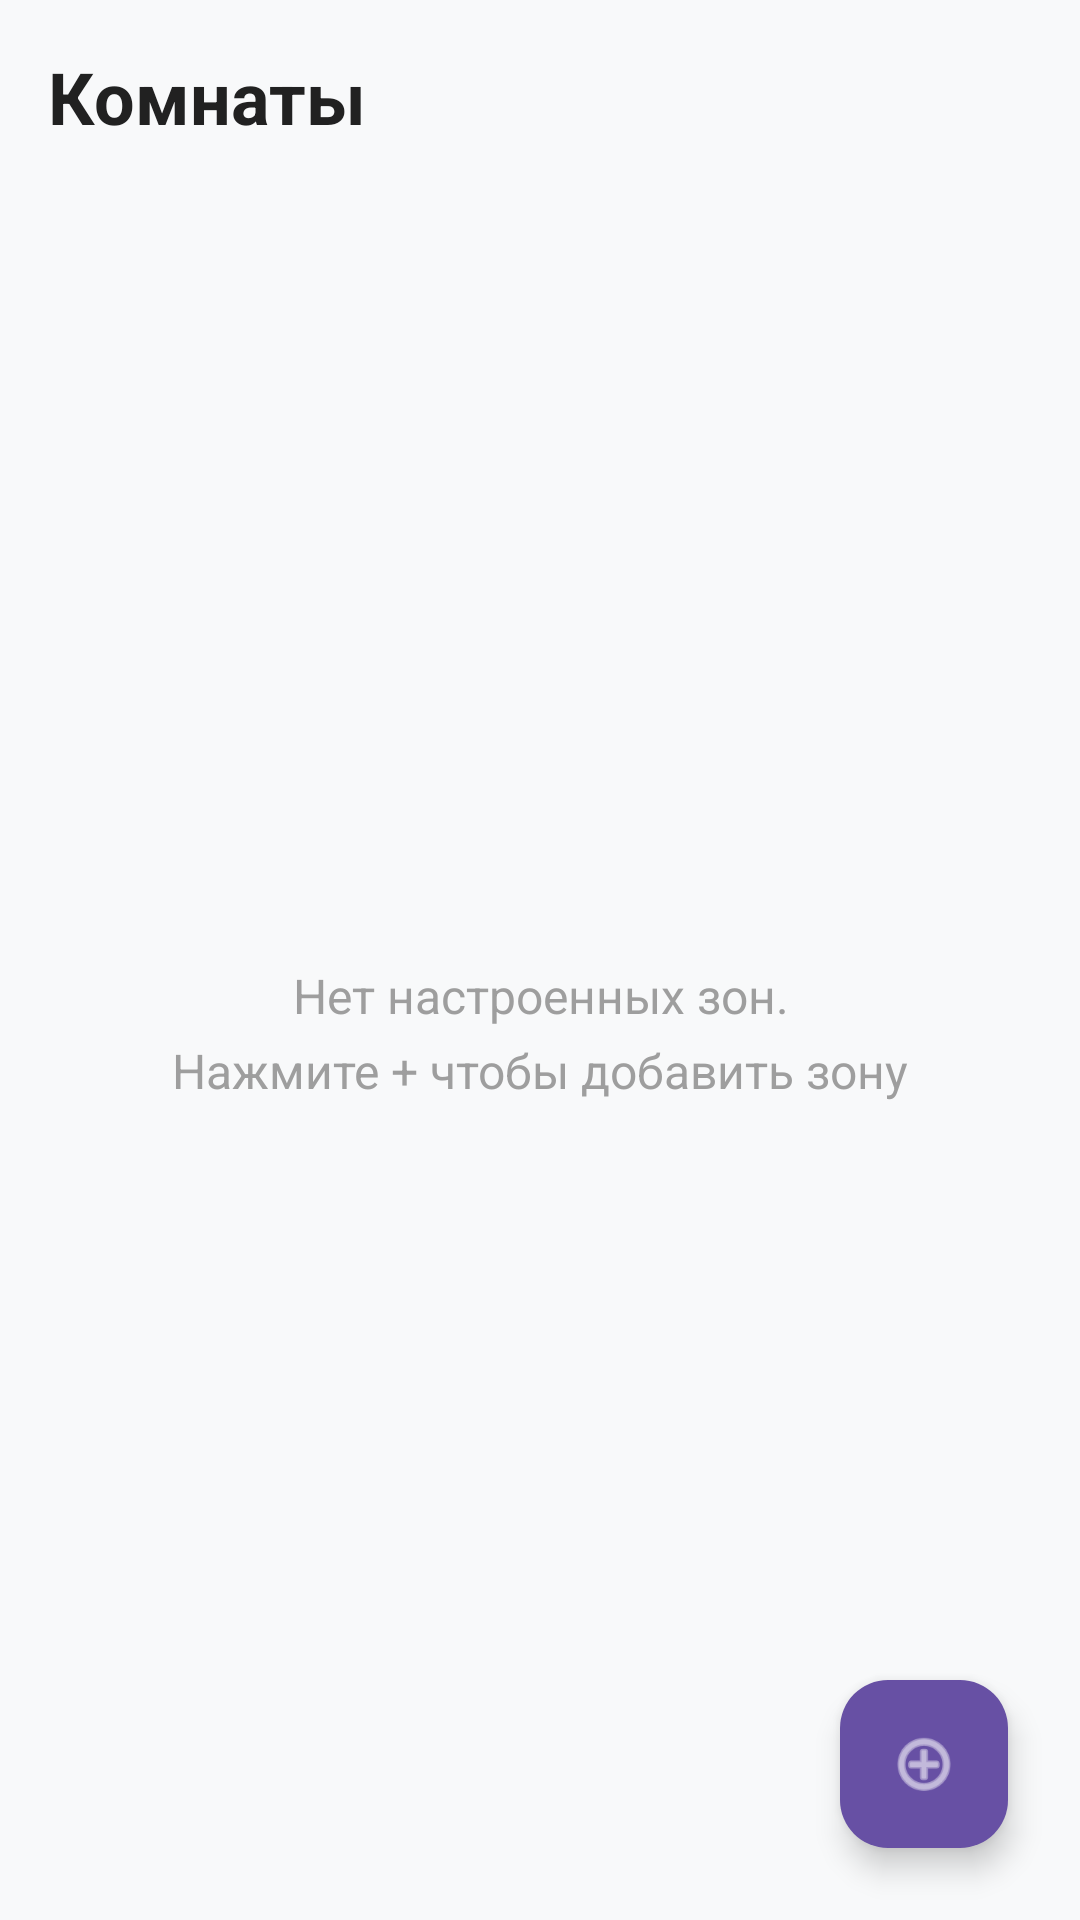

Screen size 1080x1920. Icon name, then its center in pixels as (x=x, y=y):
Добавить зону: (x=924, y=1764)
